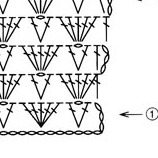double treble: (30, 116, 106, 147)
enseble_chain: (30, 96, 67, 133), (34, 41, 69, 77), (16, 93, 49, 131), (0, 69, 32, 106), (0, 12, 31, 48), (30, 14, 61, 47), (31, 71, 61, 104), (70, 100, 98, 134), (71, 44, 98, 75), (88, 94, 109, 133), (0, 100, 23, 134), (0, 45, 21, 75), (28, 44, 47, 71), (72, 16, 89, 43), (95, 44, 112, 71), (75, 74, 92, 99), (119, 107, 145, 122), (90, 75, 105, 100), (143, 104, 158, 122), (100, 0, 114, 17), (30, 0, 44, 15)
